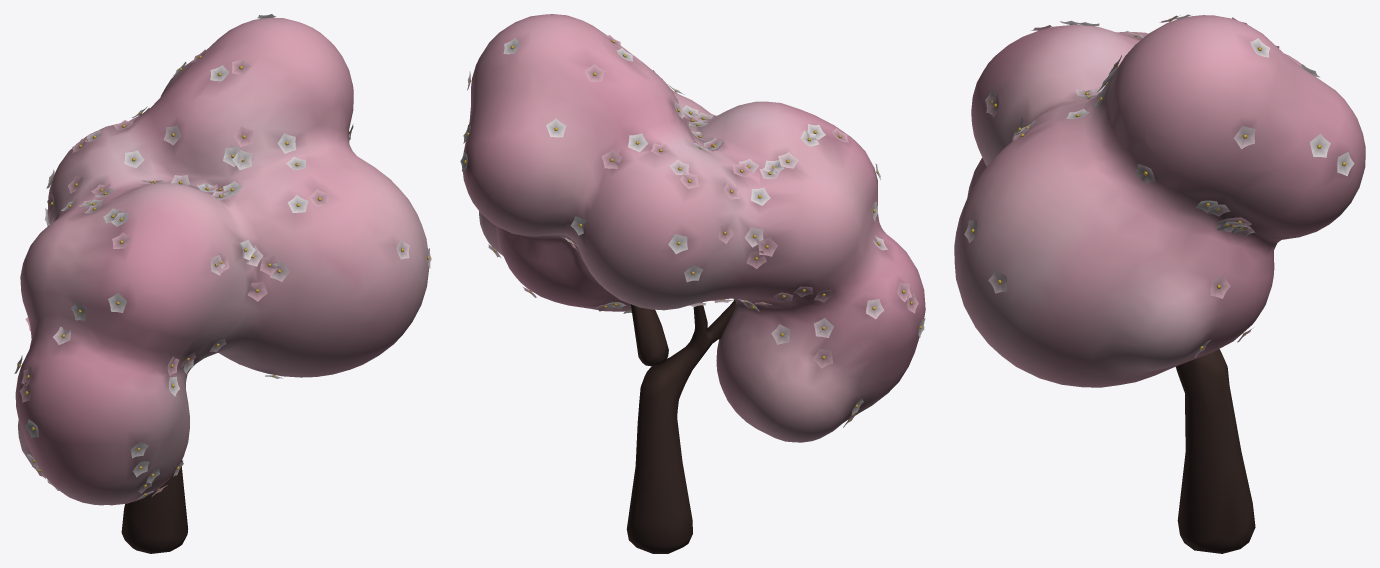
The model's file is tree_04_5.glb.
3 views of the same model, side by side, from view 1: azimuth 30°, elevation 25°; view 2: azimuth 150°, elevation 25°; view 3: azimuth 270°, elevation 25° (orthographic). The views are drawn at different scales.
Visible parts, largest first — view 1: canopy, blooms, bark; view 2: canopy, bark, blooms; view 3: canopy, bark, blooms.
Part boxes in pixels (x1=…): canopy: x1=15, y1=18, x2=429, y2=505; blooms: x1=14, y1=14, x2=431, y2=500; bark: x1=121, y1=460, x2=187, y2=553; canopy: x1=463, y1=14, x2=925, y2=442; bark: x1=626, y1=300, x2=736, y2=553; blooms: x1=460, y1=35, x2=925, y2=427; canopy: x1=954, y1=15, x2=1365, y2=387; bark: x1=1176, y1=349, x2=1255, y2=553; blooms: x1=964, y1=14, x2=1354, y2=357.
Bounding box in the file's own units: 3.52 × 4.2 × 2.66.
